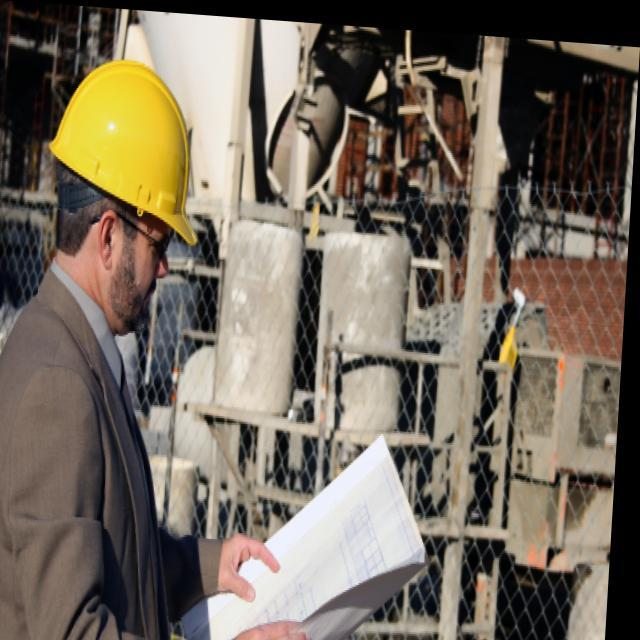helmet: (32, 46, 209, 347)
